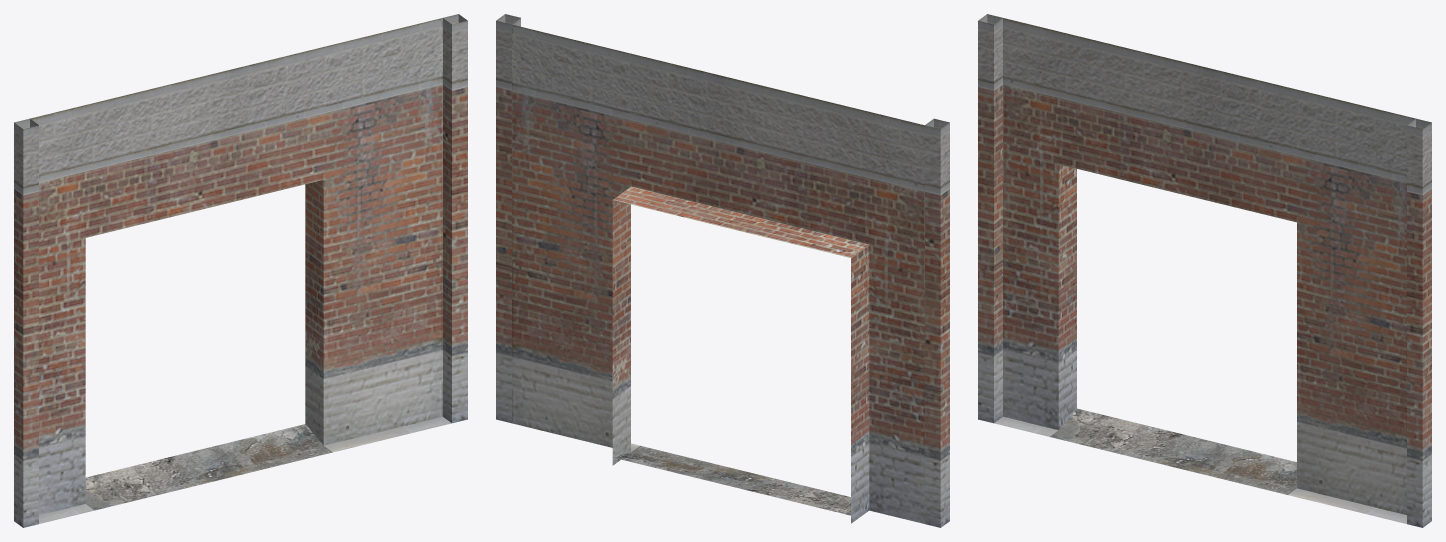
The model's file is wall3.FBX.
3 renders of one model, left to right at view 1: azimuth 30°, elevation 25°; view 2: azimuth 150°, elevation 25°; view 3: azimuth 330°, elevation 25°, orthographic.
Parts seen in each view (by area): view 1: StyleE-Wing3; view 2: StyleE-Wing3; view 3: StyleE-Wing3.
Part boxes in pixels (bbox=[...]): StyleE-Wing3: bbox=[14, 14, 467, 527]; StyleE-Wing3: bbox=[496, 14, 949, 527]; StyleE-Wing3: bbox=[978, 14, 1431, 527].
Size of the model in its own units: 700 by 600 by 75.
